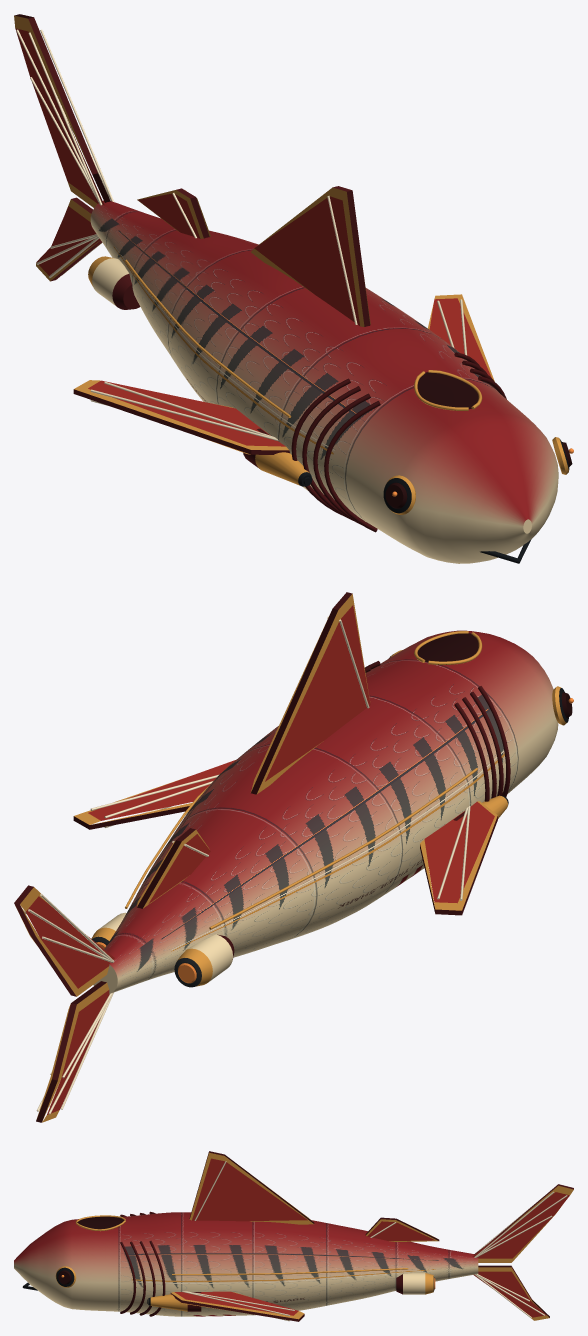
3 views of the same model, one above another, from view 1: azimuth 30°, elevation 25°; view 2: azimuth 150°, elevation 25°; view 3: azimuth 270°, elevation 25° (orthographic). The views are drawn at different scales.
Visible parts, largest first — view 1: tiger_shark_hull; view 2: tiger_shark_hull; view 3: tiger_shark_hull.
Boxes of the visible parts, bbox=[...] form: tiger_shark_hull: bbox=[14, 14, 573, 563]; tiger_shark_hull: bbox=[14, 592, 573, 1122]; tiger_shark_hull: bbox=[14, 1151, 573, 1321].
Size of the model in its own units: 35.12 by 26.52 by 80.
Materials: 1 (1 with a texture image).
